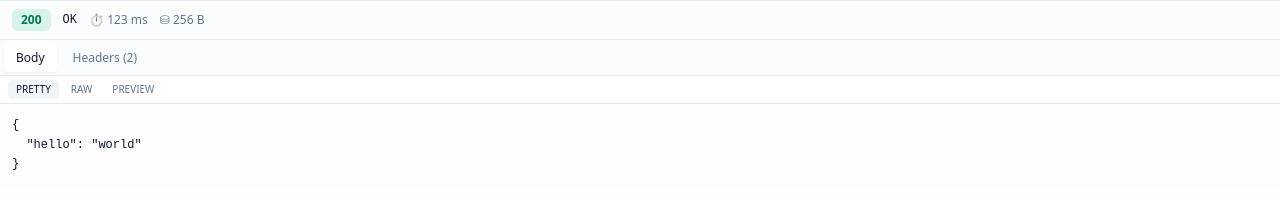
Scenario: <ResponseViewer> › renders a 200 OK response with status, latency, size, and headers table
Expected: the text "200" is shown, [12,9,51,31]
Expected: the text "OK" is shown, [63,12,77,28]
Switch to the Headers tab.
Click the tab "Headers (2)".
click(105, 58)  # box [61,44,149,72]
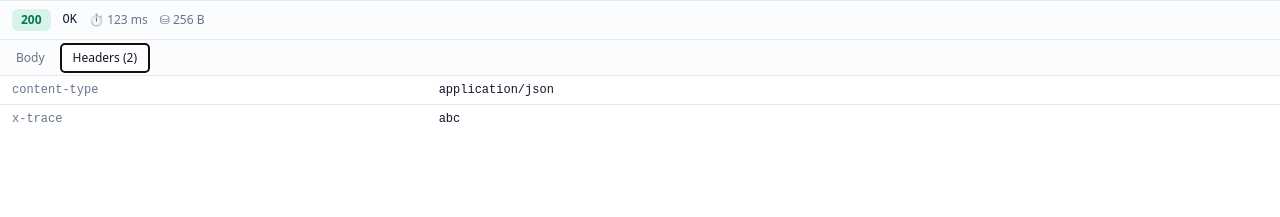
Expected: the text "content-type" is shown, [0,76,427,104]
Expected: the text "application/json" is shown, [427,76,1279,104]
Expected: the text "x-trace" is shown, [0,104,427,133]
